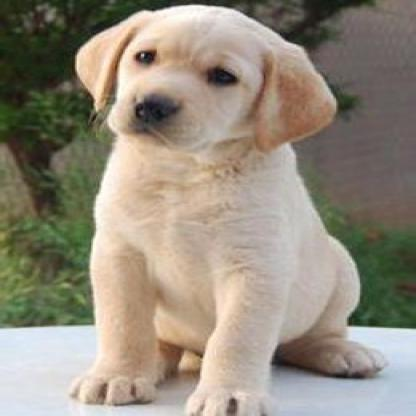dog: (73, 6, 388, 416)
